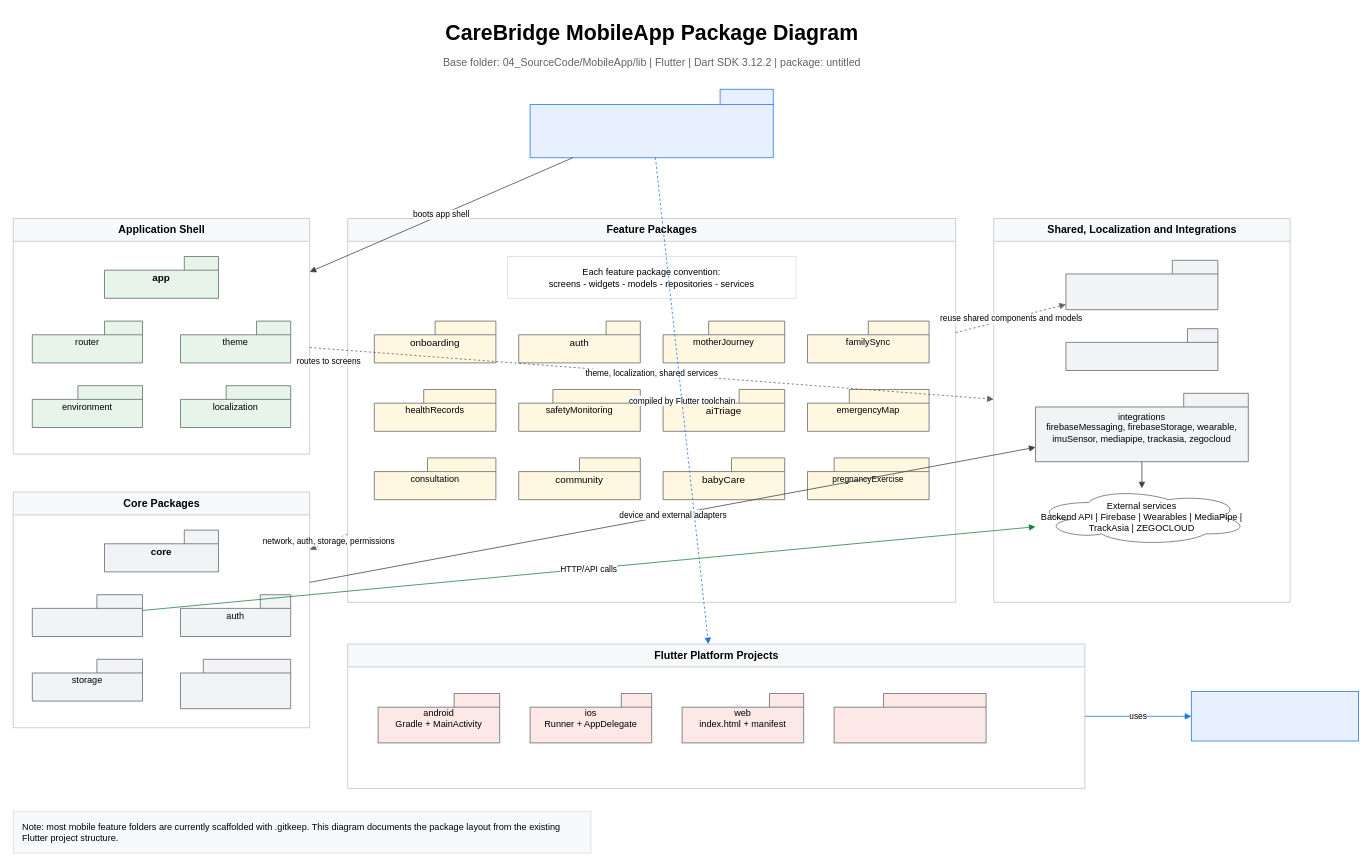
The diagram is 1372 pixels wide and 866 high, and some of its shapes have lost their labels. Here are the shapes that lost their labels. From the top down, the centre of each, then its label:
the point at 651,123: main.dart runApp(MyApp) MaterialApp root
the point at 1141,285: shared components, models, services
the point at 1141,349: l10n
the point at 87,615: network
the point at 235,684: errors / permissions widgets / utils constants
the point at 909,718: windows / macos / linux desktop runners
the point at 1274,716: Flutter SDK Material + Cupertino Icons
